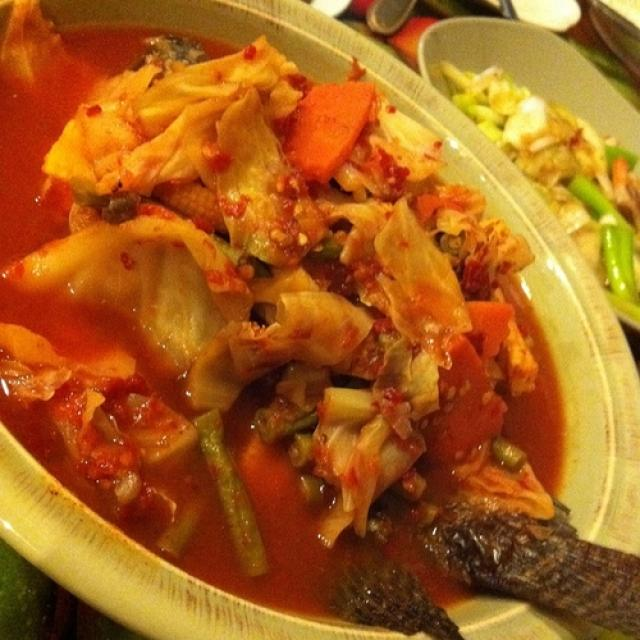汤锅炖物: (5, 10, 612, 626)
